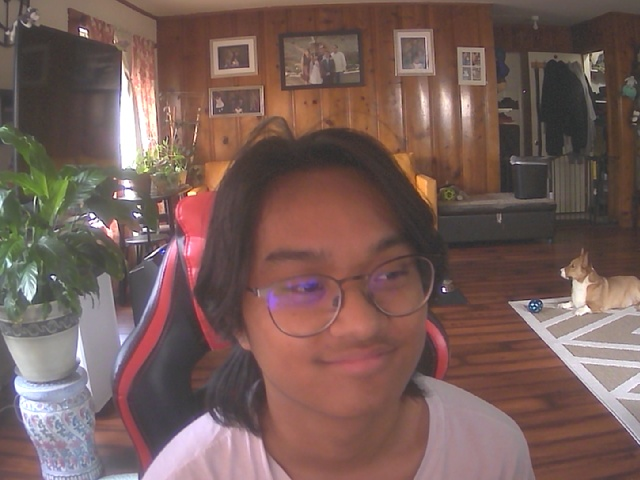happy: (222, 149, 443, 422)
